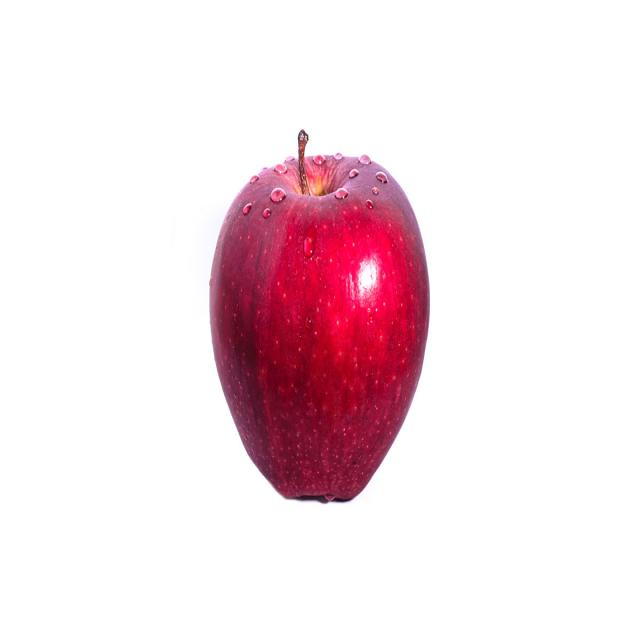Apple: (213, 120, 429, 505)
